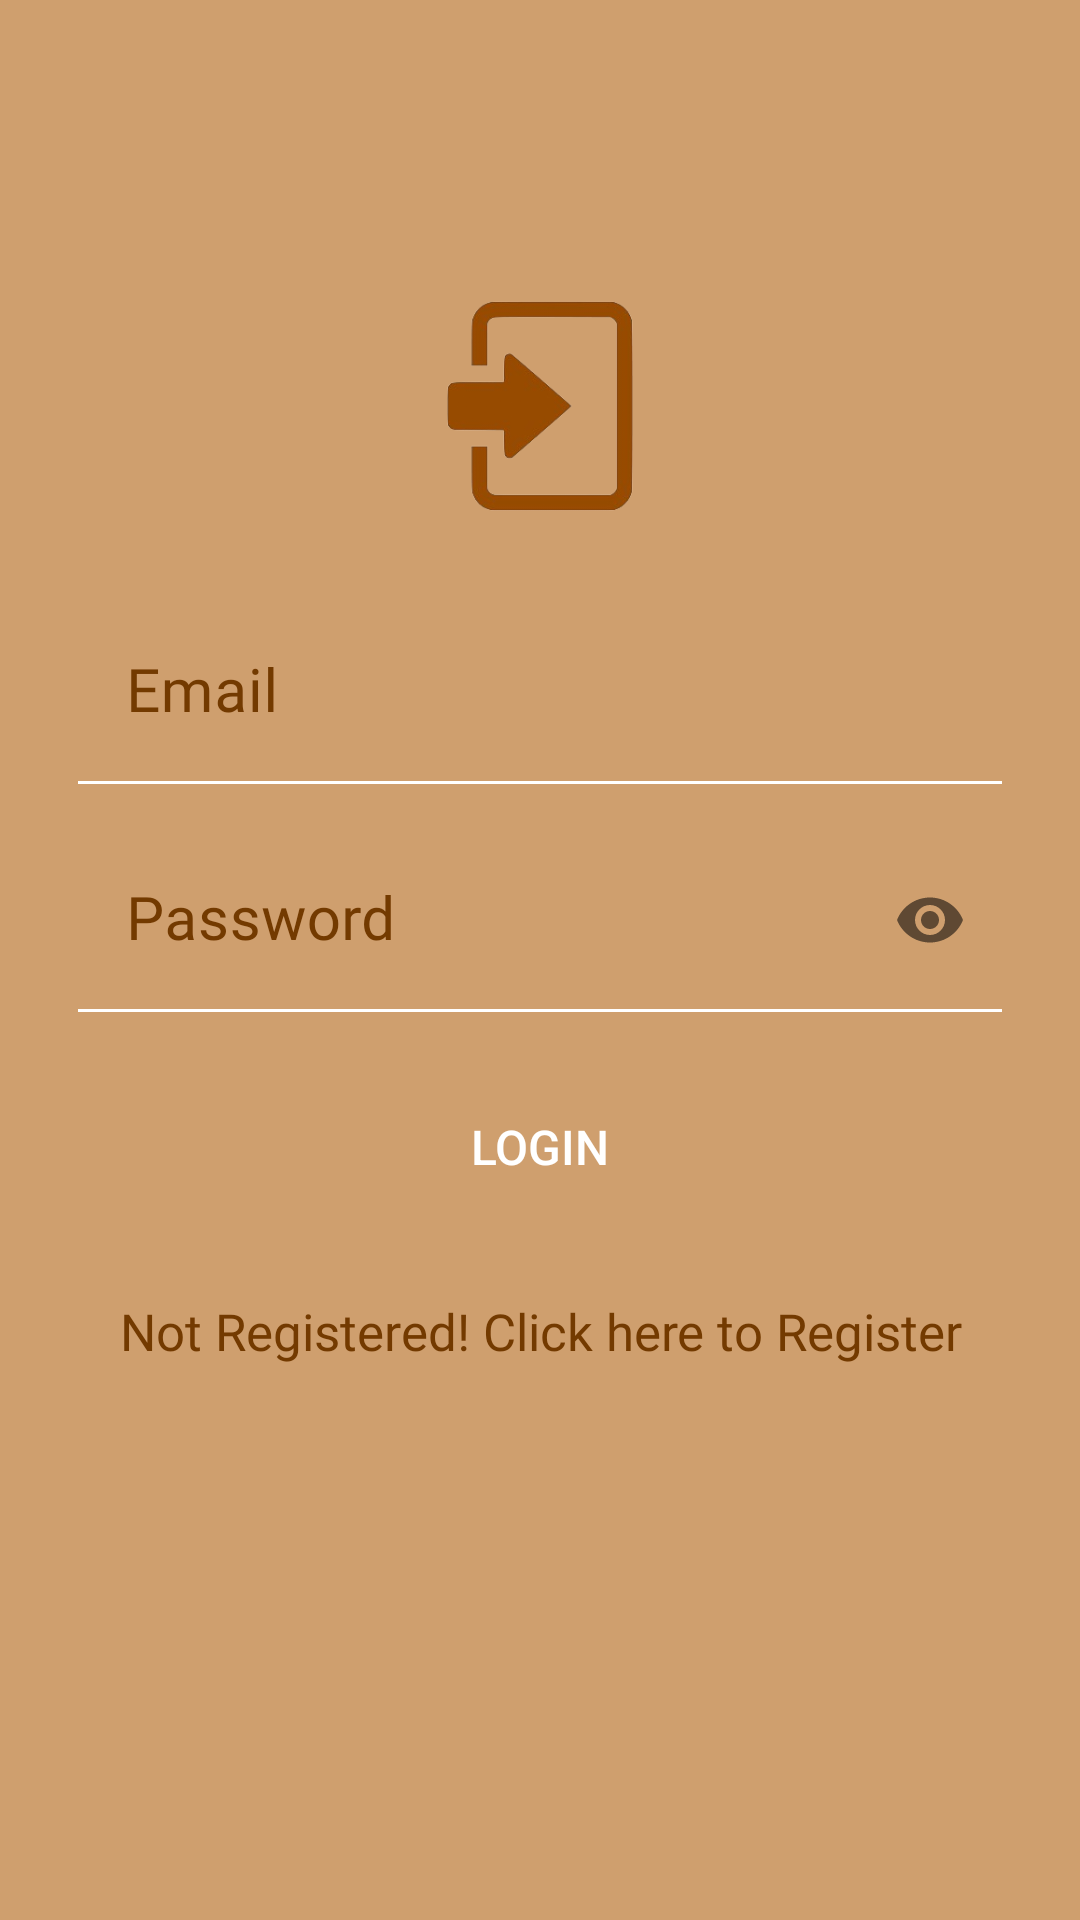

Screen size 1080x1920. Icon name, then its box in pixels as (x1=x1, y1=y1, x2=x2, y2=y2):
login: (x1=447, y1=302, x2=633, y2=510)
